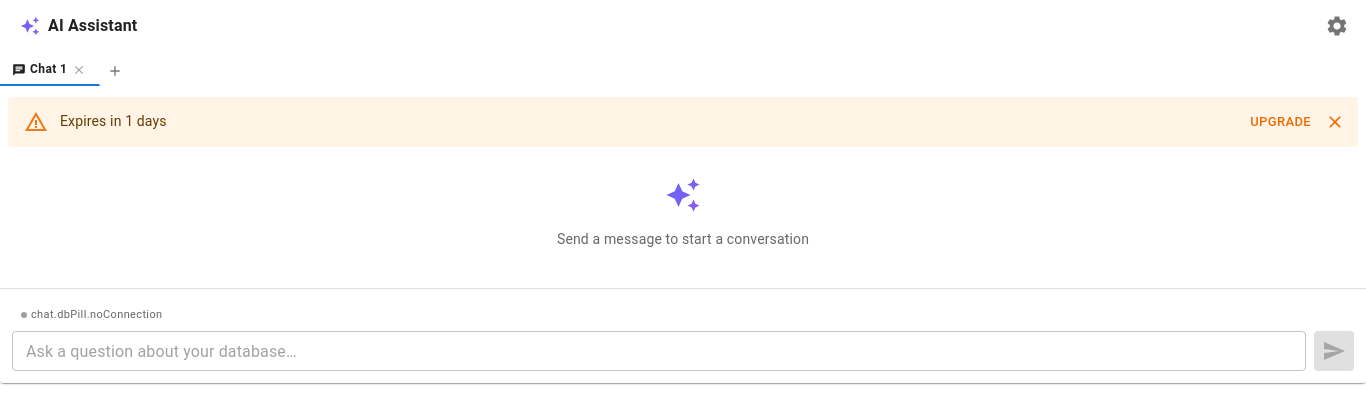
ChatPanel (extended coverage) › subscription banners › dismissing expiring-soon banner removes it
Expected: the text "Expires in 1 days" is shown, x1=60 y1=113 x2=167 y2=129
# The dismiss button for expiring_soon is the last CloseIcon button rendered
Click the 5th button at (1335, 122), box x1=1320 y1=107 x2=1350 y2=137
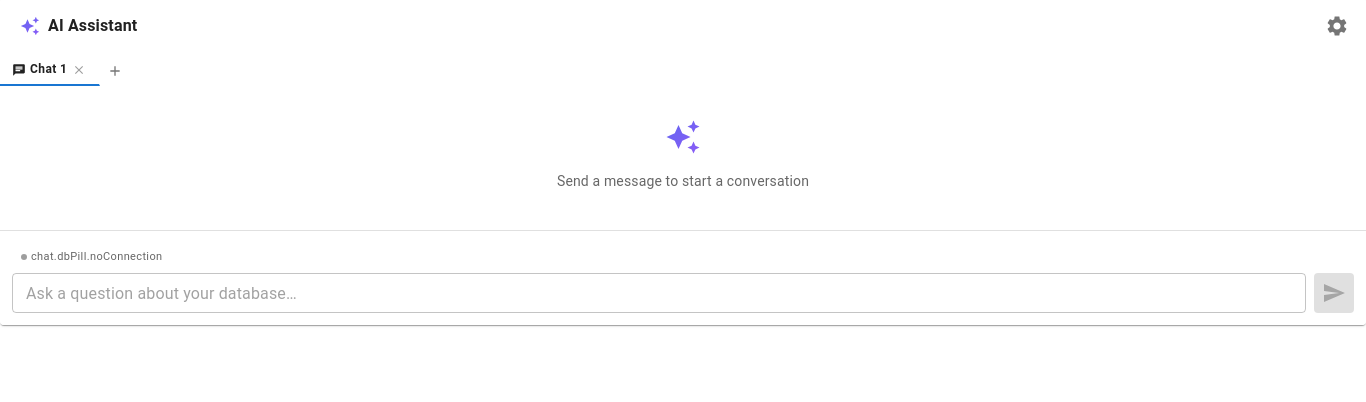
Expected: the text "Expires in" is gone
